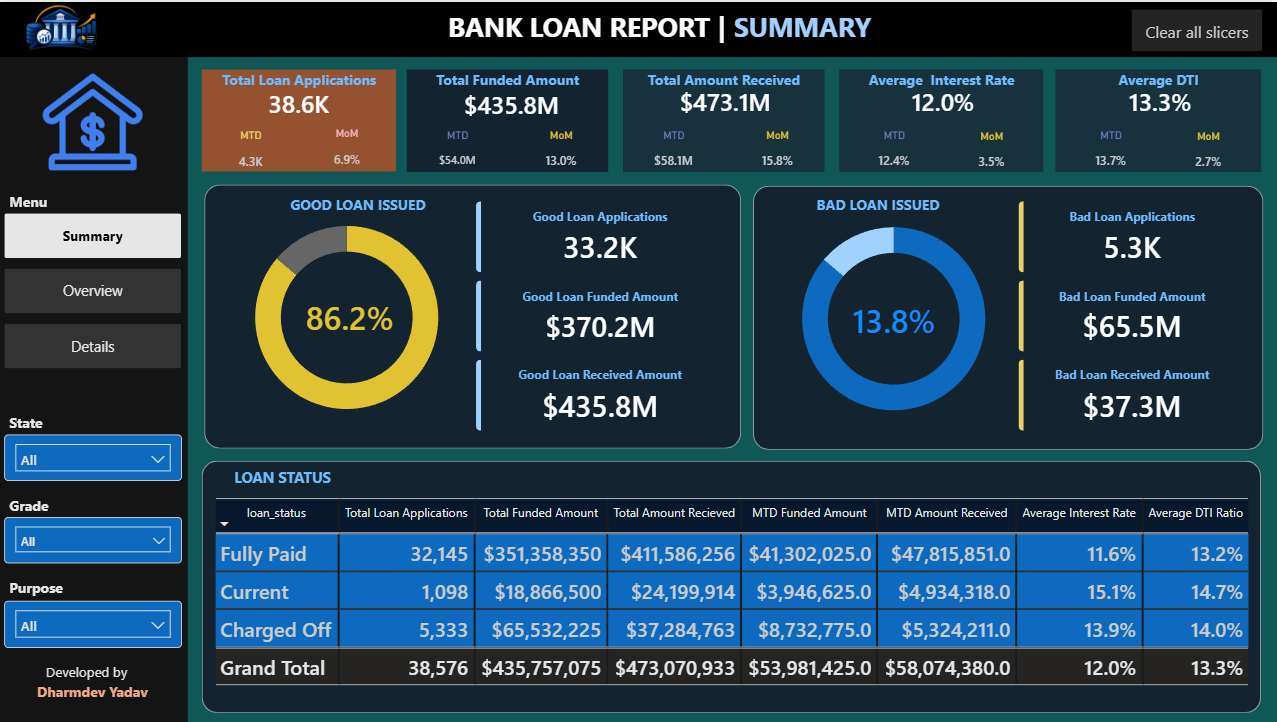

This screenshot's page, from the dashboard's own definition file:
{"tool":"powerbi","page":{"name":"Summary","canvas":[1280,720],"ordinal":0},"visuals":[{"type":"shape","box":[0,0,1280,55],"z":0},{"type":"shape","box":[204.1,67.7,194.3,102],"z":0,"group":"g1"},{"type":"shape","box":[409.3,67.8,201.4,102.6],"z":0,"group":"g2"},{"type":"shape","box":[625.7,67.8,201.4,102.5],"z":0,"group":"g3"},{"type":"shape","box":[842.1,67.8,204.3,102.3],"z":0,"group":"g5"},{"type":"shape","box":[1058.5,67.8,205.7,102.5],"z":0,"group":"g6"},{"type":"shape","box":[206.2,182,536.9,264.2],"z":0,"group":"g13"},{"type":"slicer","fields":{"Values":["Banking_data.grade"]},"box":[6.2,514.9,177.3,46.8],"z":0,"group":"g9"},{"type":"shape","box":[0,55.5,189.4,664.7],"z":1000},{"type":"cardVisual","fields":{"Data":["Banking_data.Total Amount Recieved"]},"box":[629,66.9,197.9,64.7],"z":1000,"group":"g3"},{"type":"cardVisual","fields":{"Data":["Banking_data.Average Interest Rate"]},"box":[845.4,66.9,200.7,64.6],"z":1000,"group":"g5"},{"type":"cardVisual","fields":{"Data":["Banking_data.Average DTI Ratio"]},"box":[1061.8,66.9,202.1,64.7],"z":1000,"group":"g6"},{"type":"cardVisual","fields":{"Data":["Banking_data.Total Funded Amount"]},"box":[415.3,70.2,197.9,64.8],"z":1000,"group":"g2"},{"type":"cardVisual","fields":{"Data":["Banking_data.Total Loan Applications"]},"box":[203.6,72.9,194.8,57],"z":1000,"group":"g1"},{"type":"donutChart","fields":{"Category":["Banking_data.Good vs Bad Loan Group"],"Y":["Banking_data.Total Loan Applications"]},"box":[214.6,195.3,267.8,238.9],"z":1000,"group":"g13"},{"type":"textbox","box":[6.2,488.7,146.5,30.8],"z":1000,"group":"g9"},{"type":"textbox","box":[445.2,1.2,465.7,54.3],"z":2000},{"type":"cardVisual","title":"MTD","fields":{"Data":["Banking_data.MTD Loan Application"]},"box":[203.6,126.7,98.1,58.7],"z":2000,"group":"g1"},{"type":"cardVisual","title":"MTD","fields":{"Data":["Banking_data.MTD Funded Amount"]},"box":[408.7,127,101.7,59],"z":2000,"group":"g2"},{"type":"cardVisual","title":"MTD","fields":{"Data":["Banking_data.MTD Amount Received"]},"box":[625.1,127,101.7,59],"z":2000,"group":"g3"},{"type":"group","id":"g1","title":"Group 1","box":[203.6,63,194.8,122.4],"z":3000},{"type":"cardVisual","title":"MoM","fields":{"Data":["Banking_data.MoM Loan Application"]},"box":[300.3,125.4,98.1,59.4],"z":3000,"group":"g1"},{"type":"cardVisual","title":"MoM","fields":{"Data":["Banking_data.MoM Funded Amount"]},"box":[513,126.9,101.7,59.7],"z":3000,"group":"g2"},{"type":"cardVisual","title":"MoM","fields":{"Data":["Banking_data.MoM Amount Received"]},"box":[729.4,127,101.7,59.7],"z":3000,"group":"g3"},{"type":"textbox","box":[203.6,63,194.8,29.1],"z":4000,"group":"g1"},{"type":"group","id":"g2","title":"Group 1","box":[408.7,63,206.1,123.7],"z":4000},{"type":"textbox","box":[408.7,63,202,29.3],"z":4000,"group":"g2"},{"type":"textbox","box":[625.1,63,202,29.2],"z":4000,"group":"g3"},{"type":"textbox","box":[841.5,63,204.8,29.2],"z":4000,"group":"g5"},{"type":"textbox","box":[1057.9,63,206.3,29.2],"z":4000,"group":"g6"},{"type":"cardVisual","fields":{"Data":["Banking_data.Good Loan Applications","Banking_data.Good Loan Funded Amount","Banking_data.Good Loan Received Amount"]},"box":[460.8,182,282.3,264.2],"z":4000,"group":"g13"},{"type":"group","id":"g3","title":"Group 1","box":[625.1,63,206.1,123.7],"z":5000},{"type":"textbox","box":[258.1,186.8,202.7,30.2],"z":5000,"group":"g13"},{"type":"group","id":"g4","title":"Group 2","box":[841.5,63,204.8,123.7],"z":6000},{"type":"group","id":"g5","title":"Group 1","box":[841.5,63,204.8,107.1],"z":6156,"group":"g4"},{"type":"group","id":"g6","title":"Group 1","box":[1057.9,63,206.3,107.3],"z":6156,"group":"g7"},{"type":"cardVisual","title":"MTD","fields":{"Data":["Banking_data.MTD Average Interest Rate"]},"box":[845.2,126.8,102.8,59.8],"z":6312,"group":"g4"},{"type":"cardVisual","title":"MTD","fields":{"Data":["Banking_data.MTD Average DTI Ratio"]},"box":[1061.6,127,103.5,60],"z":6312,"group":"g7"},{"type":"cardVisual","title":"MoM","fields":{"Data":["Banking_data.MoM Average DTI Ratio"]},"box":[1159.2,127.6,103.5,58.7],"z":6750,"group":"g7"},{"type":"group","id":"g7","title":"Group 2","box":[1057.9,63,206,123.7],"z":7000},{"type":"shape","box":[755,183.7,510.3,264.2],"z":8000,"group":"g12"},{"type":"shape","box":[203.9,458.4,1059.3,252.1],"z":8000},{"type":"donutChart","fields":{"Category":["Banking_data.Good vs Bad Loan Group"],"Y":["Banking_data.Total Loan Applications"]},"box":[764.7,197,261.8,238.9],"z":9000,"group":"g12"},{"type":"tableEx","fields":{"Values":["Banking_data.loan_status","Banking_data.Total Loan Applications","Banking_data.Total Funded Amount","Banking_data.Total Amount Recieved","Banking_data.MTD Funded Amount","Banking_data.MTD Amount Received","Banking_data.Average Interest Rate","Banking_data.Average DTI Ratio"]},"box":[211,491,1047,211.7],"z":9000},{"type":"cardVisual","fields":{"Data":["Banking_data.Bad Loan Applications","Banking_data.Bad Loan Funded Amount","Banking_data.Bad Loan Received Amount"]},"box":[1003.5,182.5,261.8,264.2],"z":10000,"group":"g12"},{"type":"textbox","box":[211.7,460.4,146.5,30.8],"z":10000},{"type":"textbox","box":[6.2,184.7,146.5,32],"z":11000},{"type":"textbox","box":[779,187.9,202.7,30.2],"z":11000,"group":"g12"},{"type":"cardVisual","fields":{"Data":["Banking_data.Good Loan Applications Percentage"]},"box":[268.2,259.6,166.2,108.3],"z":12000,"group":"g13"},{"type":"cardVisual","fields":{"Data":["Banking_data.Bad Loan Applications Percentage"]},"box":[809.7,262.5,172.3,108.3],"z":12000,"group":"g12"},{"type":"group","id":"g8","title":"Group 3","box":[6.2,406.2,177.3,73.9],"z":12000},{"type":"group","id":"g9","title":"Group 4","box":[6.2,488.7,177.3,72.6],"z":13000},{"type":"group","id":"g10","title":"Group 5","box":[6.2,571.2,177.3,73.9],"z":14000},{"type":"pageNavigator","box":[6.2,211.7,177.3,157.6],"z":15000},{"type":"image","box":[25.9,70.2,136.6,99.7],"z":16000},{"type":"actionButton","box":[1133.8,7.4,130.5,41.9],"z":17000},{"type":"image","box":[0,0,126.8,57.9],"z":18000},{"type":"cardVisual","title":"MoM","fields":{"Data":["Banking_data.MoM Average Interest Rate"]},"box":[942.7,128,102.5,57.5],"z":18250,"group":"g4"},{"type":"group","id":"g11","title":"Group 6","box":[206.2,182,536.2,263.8],"z":19000},{"type":"group","id":"g12","title":"Group 8","box":[755,182.5,510,265],"z":20000},{"type":"slicer","fields":{"Values":["Banking_data.purpose"]},"box":[6.2,599,177.3,47],"z":21000,"group":"g10"},{"type":"textbox","box":[26.2,656.2,125,28.8],"z":21000},{"type":"slicer","fields":{"Values":["Banking_data.address_state"]},"box":[6.2,432.9,177.3,46.8],"z":22000,"group":"g8"},{"type":"textbox","box":[26.2,675,136.2,28.8],"z":22000},{"type":"textbox","box":[6.2,571.2,146.5,30.8],"z":23001,"group":"g10"},{"type":"textbox","box":[6.2,406.2,146.5,30.8],"z":23003,"group":"g8"},{"type":"group","id":"g13","title":"Group 7","box":[206.2,182,536.2,263.8],"z":24001,"group":"g11"}]}

Visuals, with their boxes in screenshot pixels (x1, y1, x2, y2), scaled from the page's 1280x720 canvas onto the 1277x722 screenshot:
shape: [left=0, top=0, right=1276, bottom=55]
shape: [left=204, top=68, right=397, bottom=170]
shape: [left=408, top=68, right=609, bottom=171]
shape: [left=624, top=68, right=825, bottom=171]
shape: [left=840, top=68, right=1044, bottom=171]
shape: [left=1056, top=68, right=1261, bottom=171]
shape: [left=206, top=183, right=741, bottom=447]
slicer - Banking_data.grade: [left=6, top=516, right=183, bottom=563]
shape: [left=0, top=56, right=189, bottom=721]
cardVisual - Banking_data.Total Amount Recieved: [left=628, top=67, right=825, bottom=132]
cardVisual - Banking_data.Average Interest Rate: [left=843, top=67, right=1044, bottom=132]
cardVisual - Banking_data.Average DTI Ratio: [left=1059, top=67, right=1261, bottom=132]
cardVisual - Banking_data.Total Funded Amount: [left=414, top=70, right=612, bottom=135]
cardVisual - Banking_data.Total Loan Applications: [left=203, top=73, right=397, bottom=130]
donutChart - Banking_data.Good vs Bad Loan Group x Banking_data.Total Loan Applications: [left=214, top=196, right=481, bottom=435]
textbox: [left=6, top=490, right=152, bottom=521]
textbox: [left=444, top=1, right=909, bottom=56]
"MTD" cardVisual: [left=203, top=127, right=301, bottom=186]
"MTD" cardVisual: [left=408, top=127, right=509, bottom=187]
"MTD" cardVisual: [left=624, top=127, right=725, bottom=187]
"Group 1" group: [left=203, top=63, right=397, bottom=186]
"MoM" cardVisual: [left=300, top=126, right=397, bottom=185]
"MoM" cardVisual: [left=512, top=127, right=613, bottom=187]
"MoM" cardVisual: [left=728, top=127, right=829, bottom=187]
textbox: [left=203, top=63, right=397, bottom=92]
"Group 1" group: [left=408, top=63, right=613, bottom=187]
textbox: [left=408, top=63, right=609, bottom=93]
textbox: [left=624, top=63, right=825, bottom=92]
textbox: [left=840, top=63, right=1044, bottom=92]
textbox: [left=1055, top=63, right=1261, bottom=92]
cardVisual - Banking_data.Good Loan Applications x Banking_data.Good Loan Funded Amount: [left=460, top=183, right=741, bottom=447]
"Group 1" group: [left=624, top=63, right=829, bottom=187]
textbox: [left=257, top=187, right=460, bottom=218]
"Group 2" group: [left=840, top=63, right=1044, bottom=187]
"Group 1" group: [left=840, top=63, right=1044, bottom=171]
"Group 1" group: [left=1055, top=63, right=1261, bottom=171]
"MTD" cardVisual: [left=843, top=127, right=946, bottom=187]
"MTD" cardVisual: [left=1059, top=127, right=1162, bottom=188]
"MoM" cardVisual: [left=1156, top=128, right=1260, bottom=187]
"Group 2" group: [left=1055, top=63, right=1261, bottom=187]
shape: [left=753, top=184, right=1262, bottom=449]
shape: [left=203, top=460, right=1260, bottom=712]
donutChart - Banking_data.Good vs Bad Loan Group x Banking_data.Total Loan Applications: [left=763, top=198, right=1024, bottom=437]
tableEx - Banking_data.loan_status x Banking_data.Total Loan Applications: [left=211, top=492, right=1255, bottom=705]
cardVisual - Banking_data.Bad Loan Applications x Banking_data.Bad Loan Funded Amount: [left=1001, top=183, right=1262, bottom=448]
textbox: [left=211, top=462, right=357, bottom=493]
textbox: [left=6, top=185, right=152, bottom=217]
textbox: [left=777, top=188, right=979, bottom=219]
cardVisual - Banking_data.Good Loan Applications Percentage: [left=268, top=260, right=433, bottom=369]
cardVisual - Banking_data.Bad Loan Applications Percentage: [left=808, top=263, right=980, bottom=372]
"Group 3" group: [left=6, top=407, right=183, bottom=481]
"Group 4" group: [left=6, top=490, right=183, bottom=563]
"Group 5" group: [left=6, top=573, right=183, bottom=647]
pageNavigator: [left=6, top=212, right=183, bottom=370]
image: [left=26, top=70, right=162, bottom=170]
actionButton: [left=1131, top=7, right=1261, bottom=49]
image: [left=0, top=0, right=127, bottom=58]
"MoM" cardVisual: [left=940, top=128, right=1043, bottom=186]
"Group 6" group: [left=206, top=183, right=741, bottom=447]
"Group 8" group: [left=753, top=183, right=1262, bottom=449]
slicer - Banking_data.purpose: [left=6, top=601, right=183, bottom=648]
textbox: [left=26, top=658, right=151, bottom=687]
slicer - Banking_data.address_state: [left=6, top=434, right=183, bottom=481]
textbox: [left=26, top=677, right=162, bottom=706]
textbox: [left=6, top=573, right=152, bottom=604]
textbox: [left=6, top=407, right=152, bottom=438]
"Group 7" group: [left=206, top=183, right=741, bottom=447]
